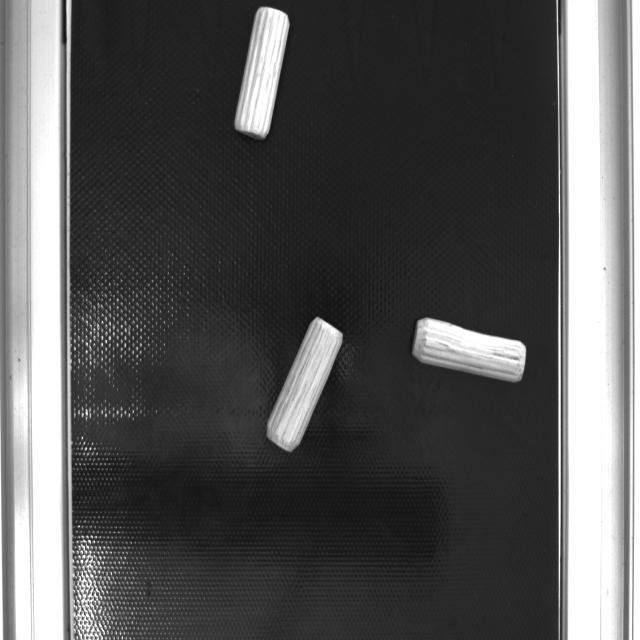Chot go: (261, 312, 347, 456), (231, 5, 293, 141), (410, 316, 530, 386)
